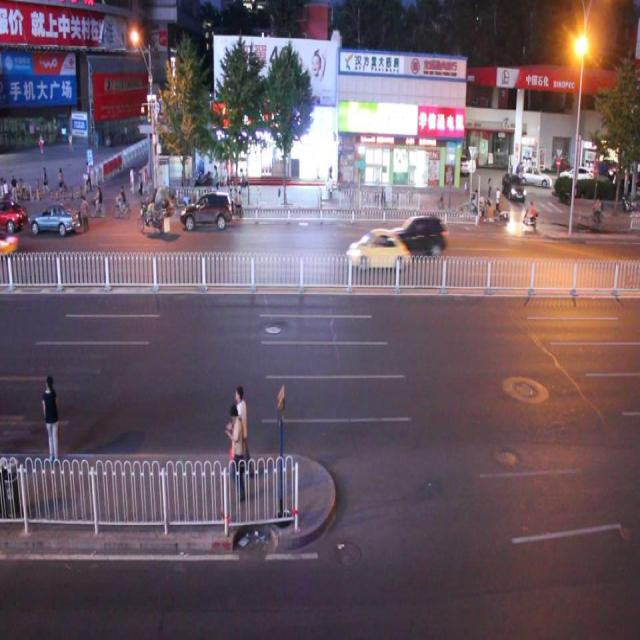car: (346, 228, 411, 272), (387, 212, 446, 260), (175, 184, 230, 228), (22, 199, 78, 234)
